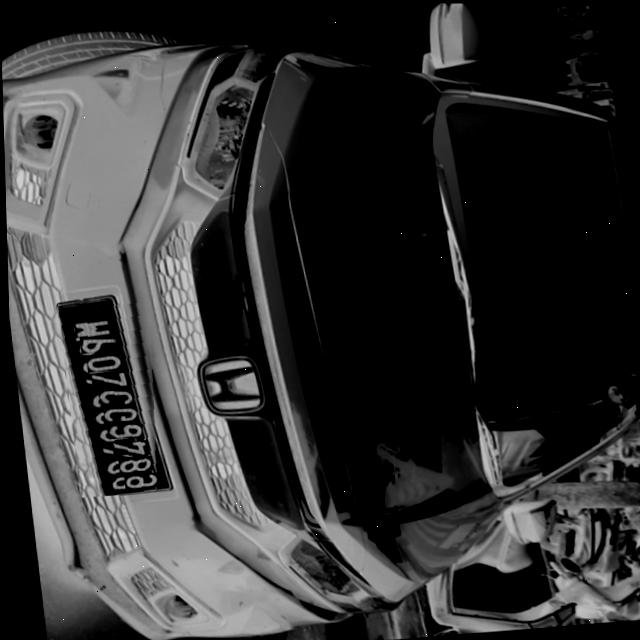0: (83, 354, 119, 372)
4: (108, 439, 146, 457)
6: (104, 423, 140, 440), (119, 472, 154, 489)
7: (88, 371, 124, 390)
8: (114, 455, 149, 472)
C: (95, 388, 129, 408)
G: (99, 405, 134, 424)
IND: (73, 300, 106, 321)
Indian_registered: (55, 297, 155, 495)
M: (71, 318, 108, 339)
P: (76, 334, 113, 354)
